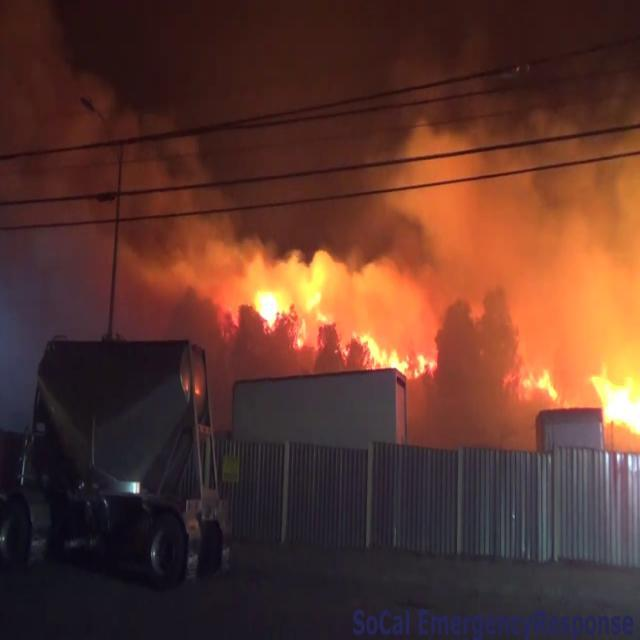Fire: (586, 352, 640, 450), (344, 322, 438, 378), (252, 278, 304, 342), (514, 357, 561, 407)
Smoke: (0, 0, 252, 336), (377, 94, 640, 379)
